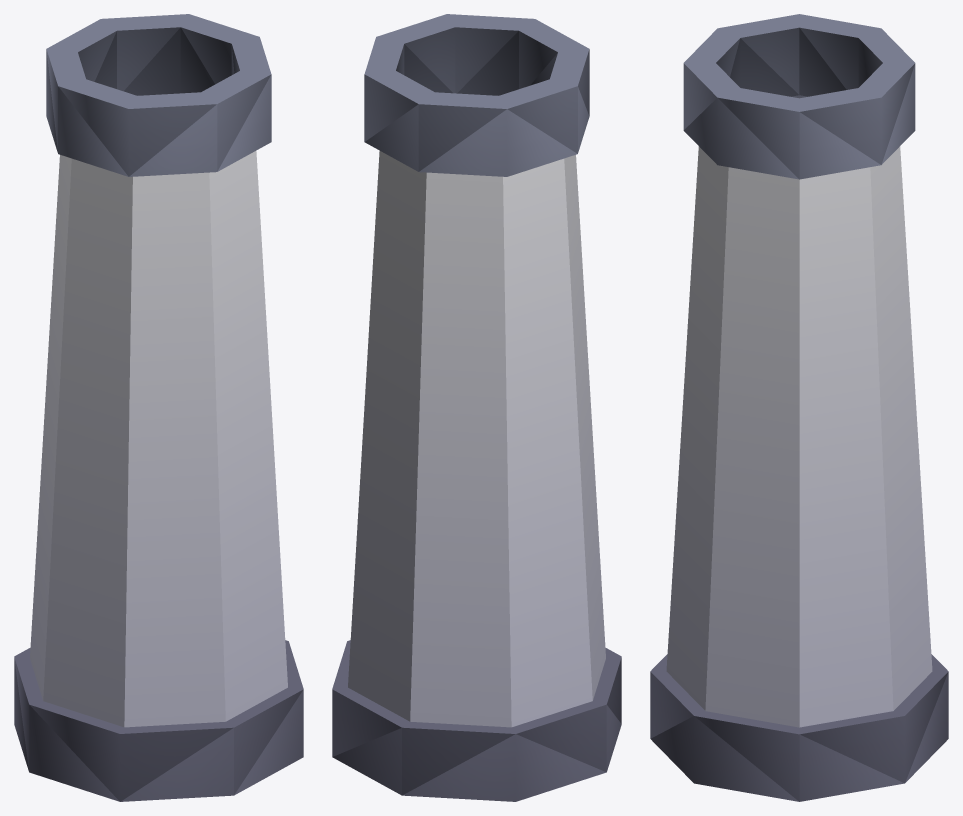
File: ki_chimney_small.fbx
3 views of the same model, side by side, from view 1: azimuth 30°, elevation 25°; view 2: azimuth 150°, elevation 25°; view 3: azimuth 270°, elevation 25° (orthographic).
Visible parts, largest first — view 1: ki_chimney_small; view 2: ki_chimney_small; view 3: ki_chimney_small.
Part boxes in pixels (bbox=[...]): ki_chimney_small: bbox=[14, 14, 303, 801]; ki_chimney_small: bbox=[332, 14, 621, 801]; ki_chimney_small: bbox=[650, 14, 948, 801].
Bounding box in the file's own units: 2.55 × 6.38 × 2.55.
Materials: 1 (1 with a texture image).
